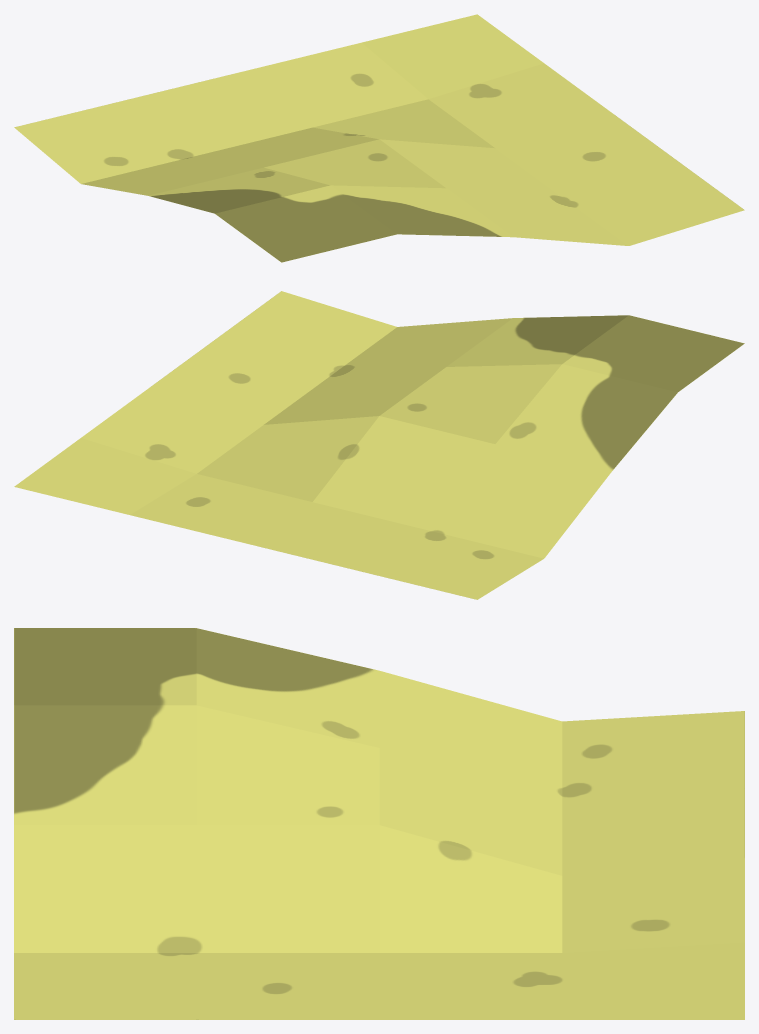
File: AreiaSuperiorDireito.glb
3 views of the same model, one above another, from view 1: azimuth 30°, elevation 25°; view 2: azimuth 150°, elevation 25°; view 3: azimuth 270°, elevation 25° (orthographic). The views are drawn at different scales.
Parts seen in each view (by area): view 1: Plano; view 2: Plano; view 3: Plano.
Boxes of the visible parts, bbox=[...] form: Plano: bbox=[14, 14, 744, 262]; Plano: bbox=[14, 291, 744, 599]; Plano: bbox=[14, 628, 744, 1019].
Bounding box in the file's own units: 2 × 0.2818 × 2.
Materials: 1 (1 with a texture image).
